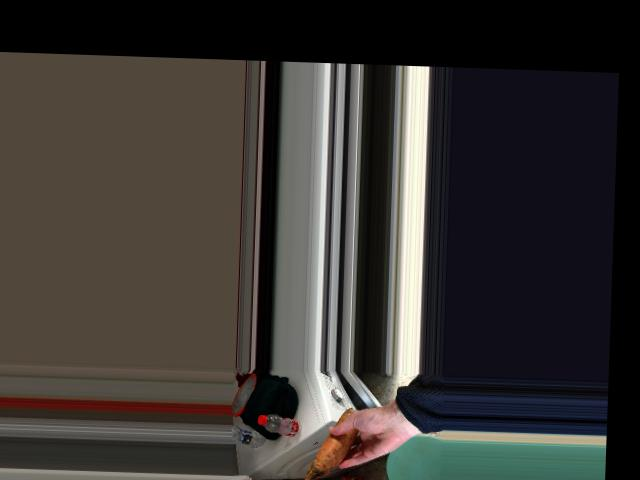sweet_potato: (317, 416, 354, 468)
